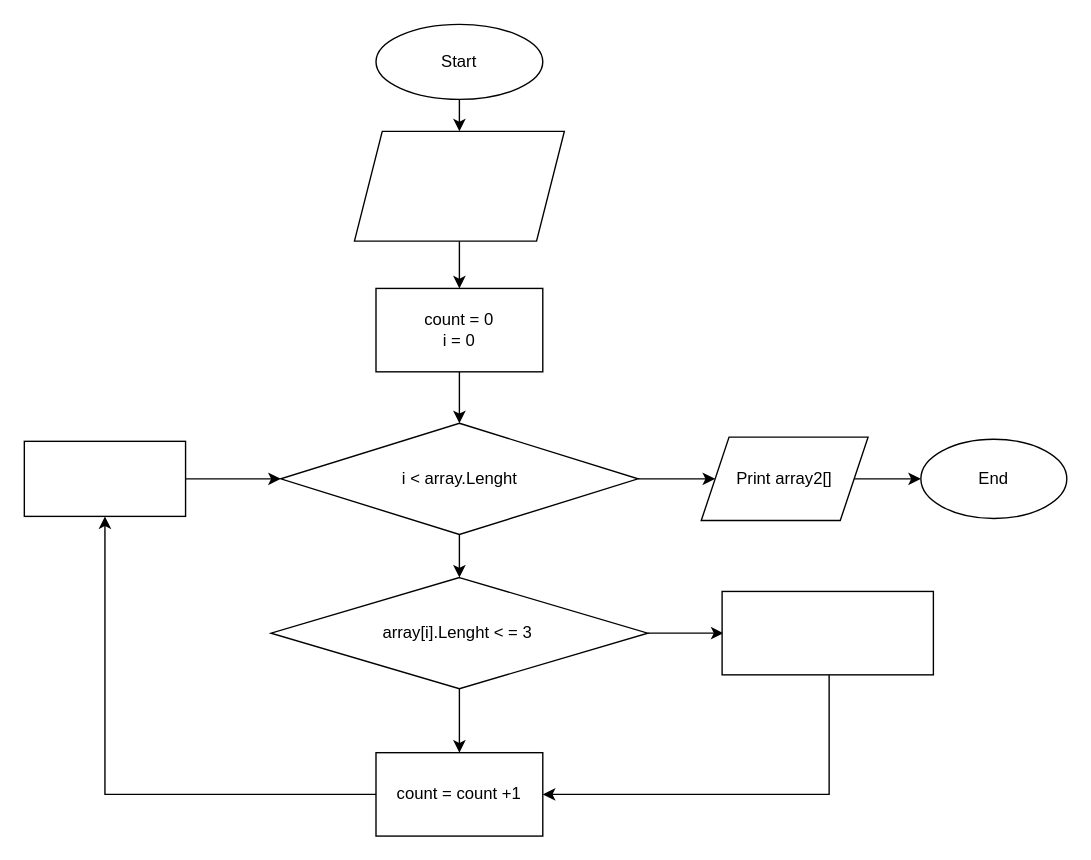
The diagram is 1091 pixels wide and 860 high, and some of its shapes have lost their labels. The centre of each missing label's shape, as x and y in pixels:
array2[count] = array[i]: point (827, 632)
array[]: point (458, 185)
i = i +1: point (104, 478)
